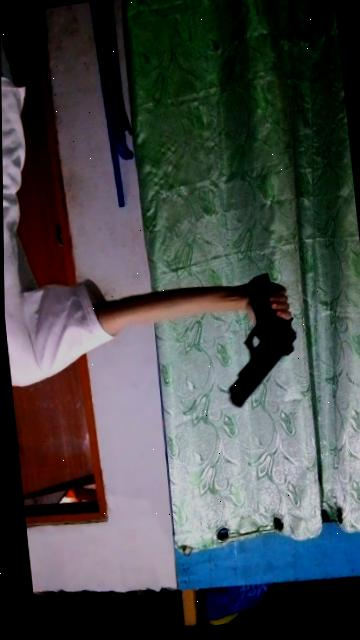pistol: (209, 265, 327, 419)
